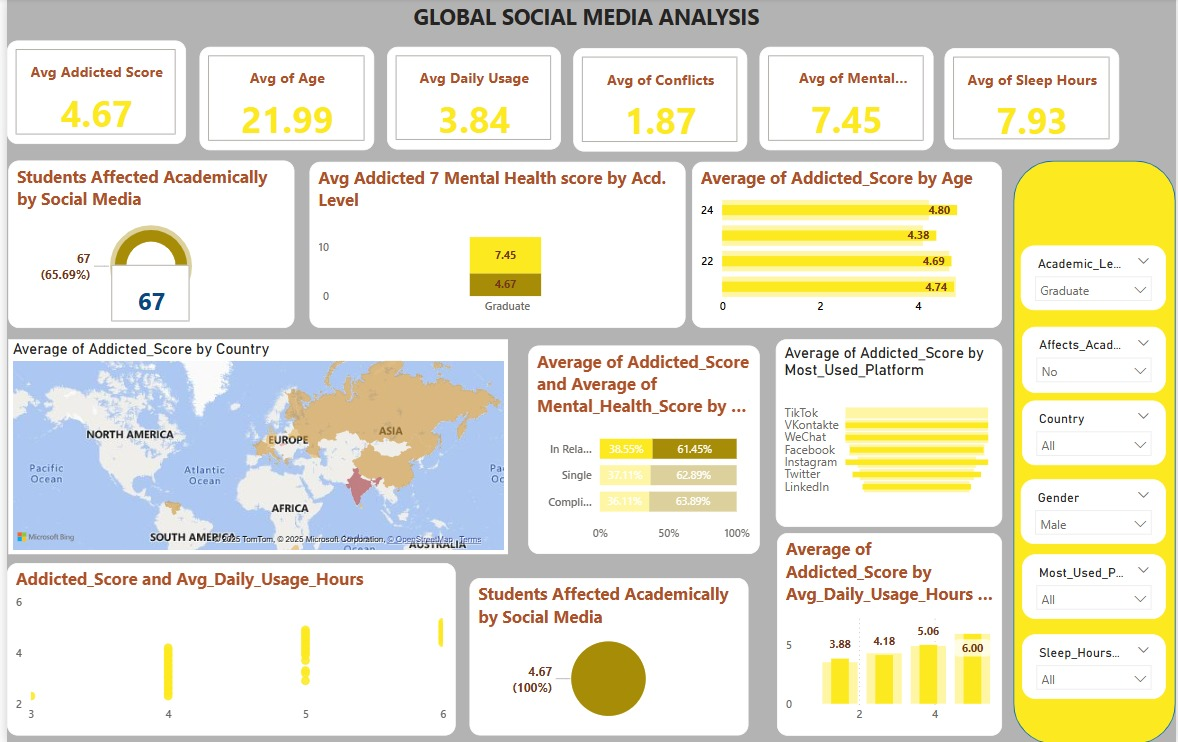

The dashboard page shown, as its layout file describes it:
{"tool":"powerbi","page":{"name":"Global Analysis","canvas":[1300,830],"ordinal":0},"visuals":[{"type":"shape","box":[1119.6,180.8,180.8,649.5],"z":0},{"type":"cardVisual","fields":{"Data":["Avg(Students Social Media Addiction.Addicted_Score)"]},"box":[0,47.3,198.9,115.4],"z":1000},{"type":"cardVisual","fields":{"Data":["Avg(Students Social Media Addiction.Age)"]},"box":[214.2,54.2,194.7,115.4],"z":2000},{"type":"cardVisual","fields":{"Data":["Avg(Students Social Media Addiction.Avg_Daily_Usage_Hours)"]},"box":[422.8,54.2,193.3,114],"z":3000},{"type":"cardVisual","fields":{"Data":["Avg(Students Social Media Addiction.Conflicts_Over_Social_Media)"]},"box":[630,55.6,193.3,115.4],"z":4000},{"type":"cardVisual","fields":{"Data":["Avg(Students Social Media Addiction.Mental_Health_Score)"]},"box":[837.2,54.2,193.3,115.4],"z":5000},{"type":"cardVisual","fields":{"Data":["Avg(Students Social Media Addiction.Sleep_Hours_Per_Night)"]},"box":[1043.1,55.6,194.7,112.7],"z":6000},{"type":"columnChart","title":"Avg Addicted 7 Mental Health score by Acd. Level","fields":{"Category":["Students Social Media Addiction.Academic_Level"],"Y":["Avg(Students Social Media Addiction.Addicted_Score)","Avg(Students Social Media Addiction.Mental_Health_Score)"]},"box":[336.6,182.2,418.6,185],"z":7000},{"type":"donutChart","title":"Students Affected Academically by Social Media","fields":{"Category":["Students Social Media Addiction.Affects_Academic_Performance"],"Y":["CountNonNull(Students Social Media Addiction.Student_ID)"]},"box":[1.4,180.8,318.5,186.4],"z":8000},{"type":"cardVisual","fields":{"Data":["Count(Students Social Media Addiction.Student_ID)"]},"box":[100.1,292.1,97.4,75.1],"z":9000},{"type":"clusteredBarChart","fields":{"Category":["Students Social Media Addiction.Age"],"Y":["Avg(Students Social Media Addiction.Addicted_Score)"]},"box":[762.1,182.2,344.9,185],"z":10000},{"type":"slicer","fields":{"Values":["Students Social Media Addiction.Academic_Level"]},"box":[1127.9,275.4,161.3,72.3],"z":11000},{"type":"slicer","fields":{"Values":["Students Social Media Addiction.Affects_Academic_Performance"]},"box":[1129.3,365.8,159.9,73.7],"z":12000},{"type":"slicer","fields":{"Values":["Students Social Media Addiction.Country"]},"box":[1129.3,447.8,159.9,72.3],"z":13000},{"type":"slicer","fields":{"Values":["Students Social Media Addiction.Gender"]},"box":[1127.9,535.4,161.3,72.3],"z":14000},{"type":"slicer","fields":{"Values":["Students Social Media Addiction.Most_Used_Platform"]},"box":[1129.3,618.9,159.9,72.3],"z":15000},{"type":"filledMap","fields":{"Category":["Students Social Media Addiction.Country"]},"box":[1.4,379.7,556.3,239.2],"z":16000},{"type":"pieChart","title":"Students Affected Academically by Social Media","fields":{"Category":["Students Social Media Addiction.Gender"],"Y":["Avg(Students Social Media Addiction.Addicted_Score)"]},"box":[514.6,645.3,310.1,175.2],"z":17000},{"type":"funnel","fields":{"Category":["Students Social Media Addiction.Most_Used_Platform"],"Y":["Avg(Students Social Media Addiction.Addicted_Score)"]},"box":[855.3,379.7,251.7,208.6],"z":18000},{"type":"hundredPercentStackedBarChart","fields":{"Category":["Students Social Media Addiction.Relationship_Status"],"Y":["Avg(Students Social Media Addiction.Addicted_Score)","Avg(Students Social Media Addiction.Mental_Health_Score)"]},"box":[579.9,386.6,257.3,232.3],"z":19000},{"type":"lineStackedColumnComboChart","fields":{"Y":["Avg(Students Social Media Addiction.Addicted_Score)"],"Category":["Students Social Media Addiction.Avg_Daily_Usage_Hours (bins)"]},"box":[856.7,595.2,250.3,225.3],"z":20000},{"type":"scatterChart","fields":{"X":["Students Social Media Addiction.Addicted_Score"],"Y":["Students Social Media Addiction.Avg_Daily_Usage_Hours"]},"box":[0,628.6,499.3,191.9],"z":21000},{"type":"textbox","box":[0,0,1289.2,47.3],"z":22000},{"type":"slicer","fields":{"Values":["Students Social Media Addiction.Sleep_Hours_Per_Night"]},"box":[1129.3,707.9,159.9,72.3],"z":23000}]}

Visuals, with their boxes in screenshot pixels (x1, y1, x2, y2), scaled from the page's 1300x830 canvas onto the 1178x742 screenshot:
shape: region(1015, 162, 1177, 741)
cardVisual - Avg(Students Social Media Addiction.Addicted_Score): region(0, 42, 180, 145)
cardVisual - Avg(Students Social Media Addiction.Age): region(194, 48, 371, 152)
cardVisual - Avg(Students Social Media Addiction.Avg_Daily_Usage_Hours): region(383, 48, 558, 150)
cardVisual - Avg(Students Social Media Addiction.Conflicts_Over_Social_Media): region(571, 50, 746, 153)
cardVisual - Avg(Students Social Media Addiction.Mental_Health_Score): region(759, 48, 934, 152)
cardVisual - Avg(Students Social Media Addiction.Sleep_Hours_Per_Night): region(945, 50, 1122, 150)
"Avg Addicted 7 Mental Health score by Acd. Level" columnChart: region(305, 163, 684, 328)
"Students Affected Academically by Social Media" donutChart: region(1, 162, 290, 328)
cardVisual - Count(Students Social Media Addiction.Student_ID): region(91, 261, 179, 328)
clusteredBarChart - Students Social Media Addiction.Age x Avg(Students Social Media Addiction.Addicted_Score): region(691, 163, 1003, 328)
slicer - Students Social Media Addiction.Academic_Level: region(1022, 246, 1168, 311)
slicer - Students Social Media Addiction.Affects_Academic_Performance: region(1023, 327, 1168, 393)
slicer - Students Social Media Addiction.Country: region(1023, 400, 1168, 465)
slicer - Students Social Media Addiction.Gender: region(1022, 479, 1168, 543)
slicer - Students Social Media Addiction.Most_Used_Platform: region(1023, 553, 1168, 618)
filledMap - Students Social Media Addiction.Country: region(1, 339, 505, 553)
"Students Affected Academically by Social Media" pieChart: region(466, 577, 747, 734)
funnel - Students Social Media Addiction.Most_Used_Platform x Avg(Students Social Media Addiction.Addicted_Score): region(775, 339, 1003, 526)
hundredPercentStackedBarChart - Students Social Media Addiction.Relationship_Status x Avg(Students Social Media Addiction.Addicted_Score): region(525, 346, 759, 553)
lineStackedColumnComboChart - Avg(Students Social Media Addiction.Addicted_Score) x Students Social Media Addiction.Avg_Daily_Usage_Hours (bins): region(776, 532, 1003, 734)
scatterChart - Students Social Media Addiction.Addicted_Score x Students Social Media Addiction.Avg_Daily_Usage_Hours: region(0, 562, 452, 734)
textbox: region(0, 0, 1168, 42)
slicer - Students Social Media Addiction.Sleep_Hours_Per_Night: region(1023, 633, 1168, 697)
